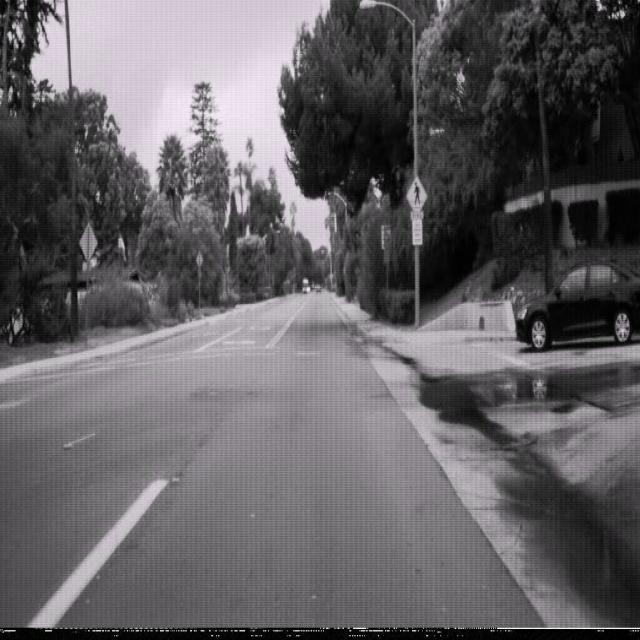pedestrianCrossing: (406, 174, 428, 216)
